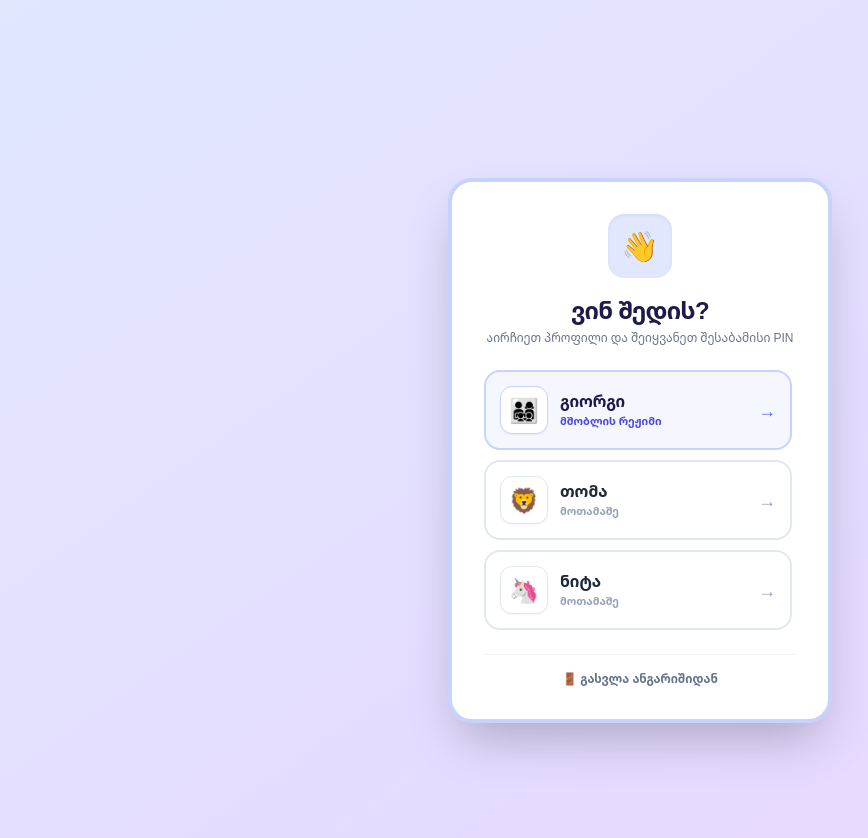
PinGate Component — Two-Stage Identity-First Flow › COMMIT 2: deriveParentPinStatus fail-closed semantics & Parent NULL PIN Setup › does NOT query profiles.pin_hash on Stage 1 render, and queries it once when parent identity is clicked
Click the text "გიორგი": (593, 401) [560,390,625,412]
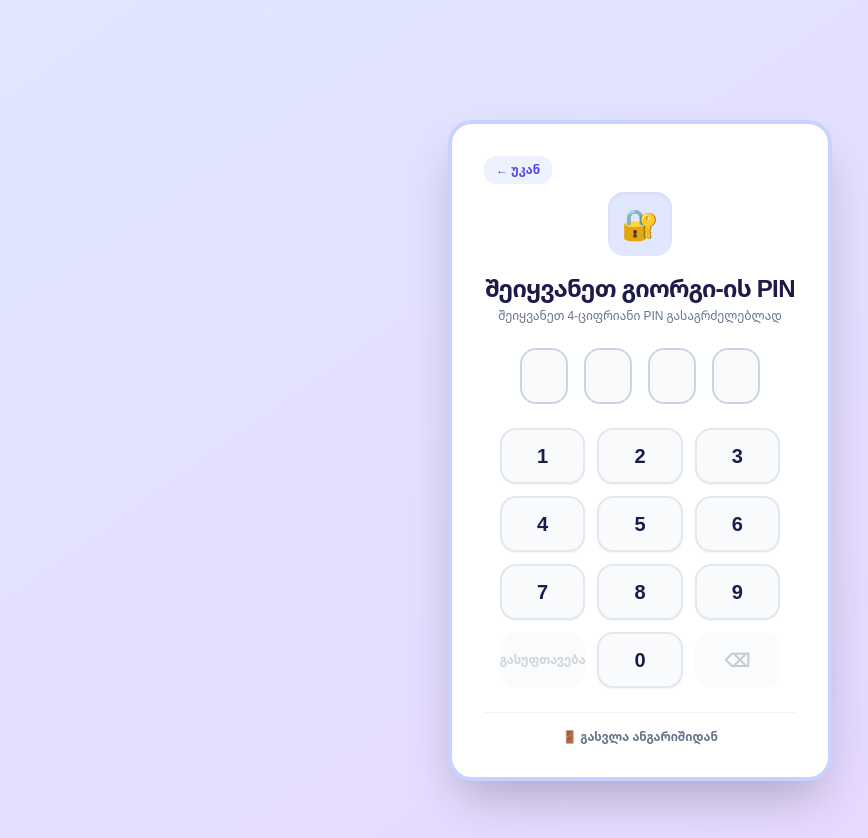
Expected: the heading "შეიყვანეთ გიორგი-ის PIN" is shown, [485,272,795,304]
